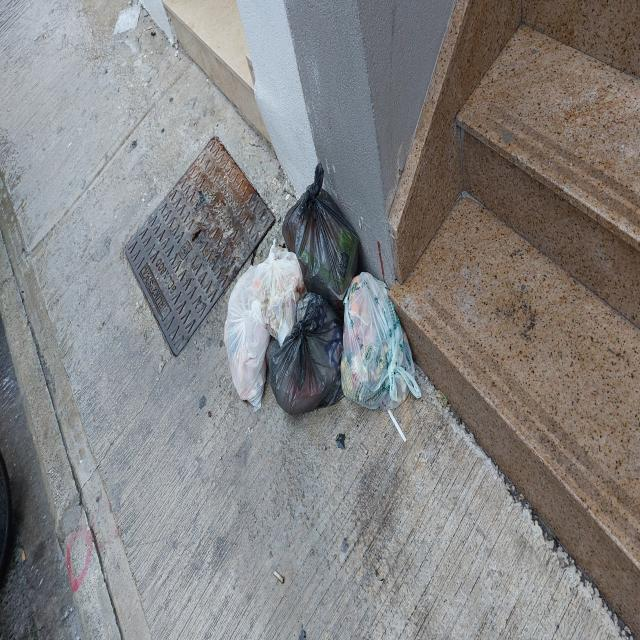Mixed Waste -Black Bag-: (285, 187, 359, 308), (270, 305, 340, 418)
Organic Waste -White Bag-: (342, 275, 416, 411), (226, 257, 268, 407), (261, 255, 302, 338)
